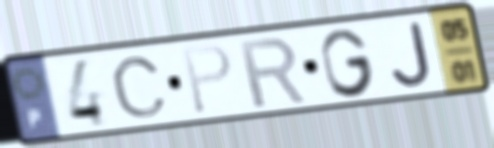4: (61, 57, 114, 130)
C: (108, 54, 171, 121)
G: (317, 25, 378, 100)
J: (387, 18, 435, 91)
P: (179, 41, 235, 117)
R: (235, 35, 309, 111)
